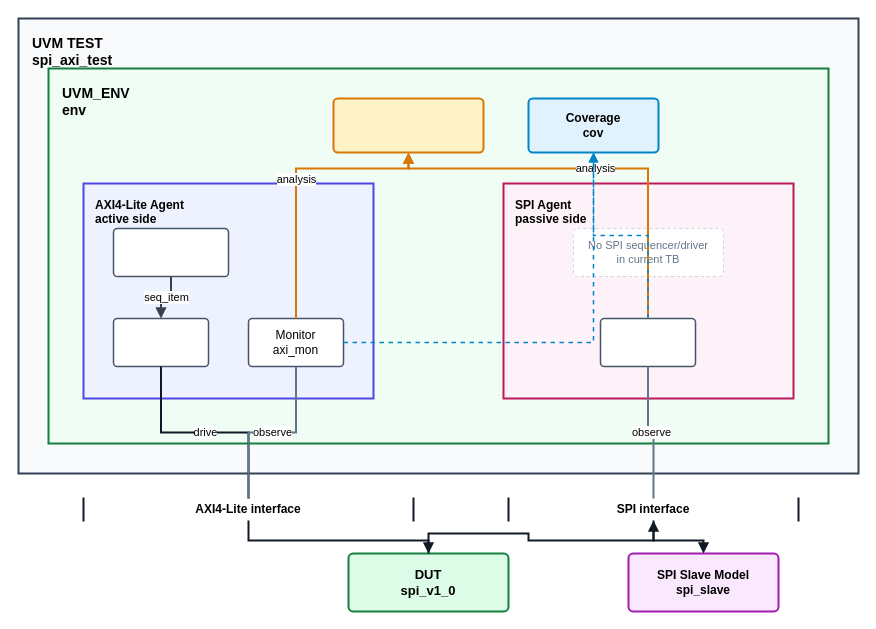
Image size: 876x629. Some labels were removed from this diagram. Here are the shapes that lost their labels. From the top down, the centre of each, then its label:
At (x=408, y=125): "Scoreboard scb".
At (x=170, y=252): "Sequencer axi_seqr".
At (x=160, y=342): "Driver axi_drv".
At (x=647, y=342): "Monitor spi_mon".
